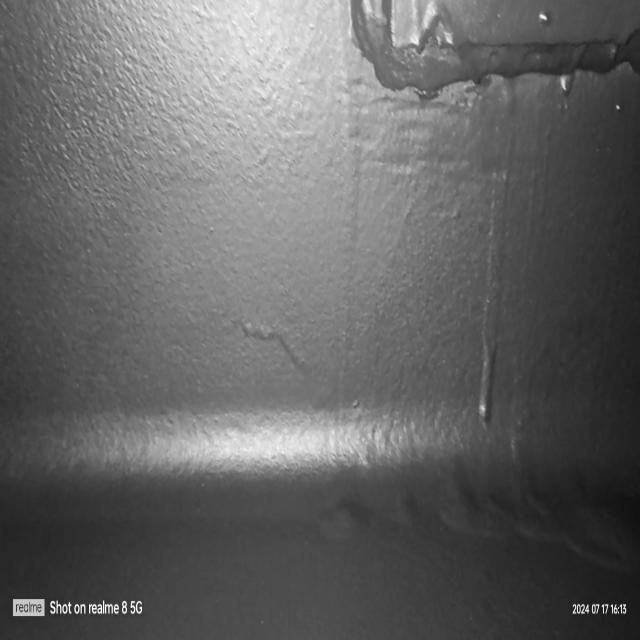paint drips: (477, 79, 514, 432), (240, 287, 316, 391), (554, 68, 582, 116), (529, 4, 554, 46)
